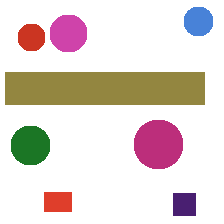circle: (134, 120, 182, 168), (11, 126, 49, 164), (50, 15, 86, 51), (184, 7, 212, 35), (18, 24, 44, 50)
rectangle: (5, 72, 204, 104), (44, 192, 71, 211), (173, 193, 195, 215)
